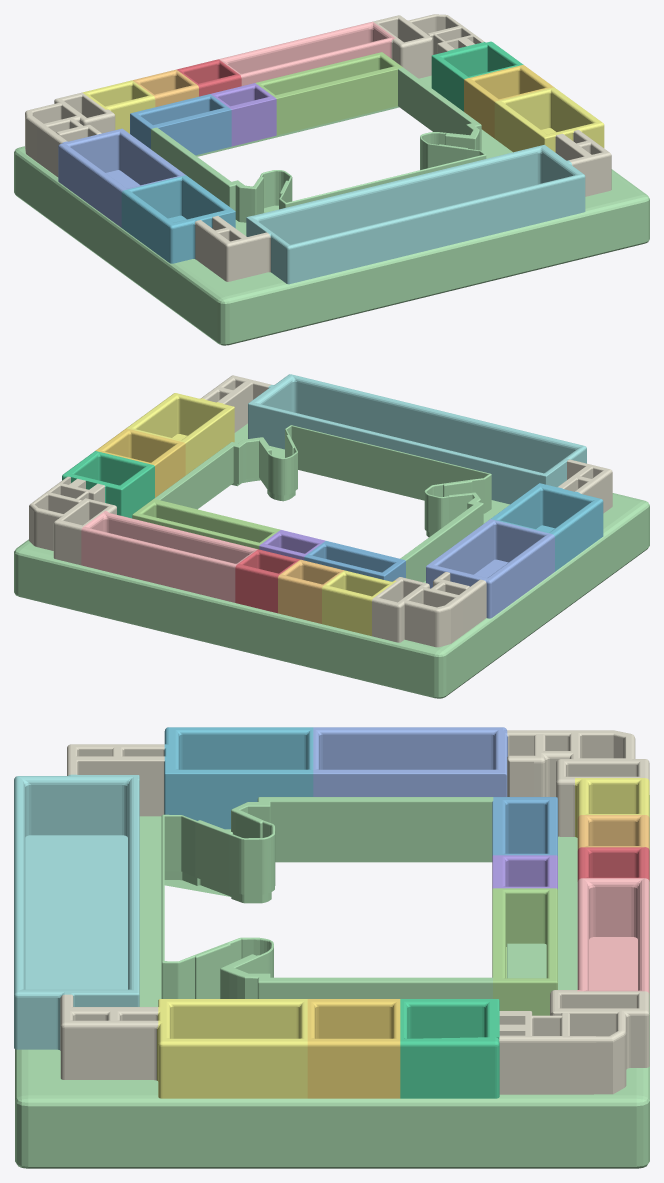
Rendered from index.glb.
3 renders of one model, top to bottom at view 1: azimuth 30°, elevation 25°; view 2: azimuth 150°, elevation 25°; view 3: azimuth 270°, elevation 25°, orthographic. The views are drawn at different scales.
Parts seen in each view (by area): view 1: 首頁; view 2: 首頁; view 3: 首頁.
Part boxes in pixels (bbox=[...]): 首頁: bbox=[14, 14, 649, 345]; 首頁: bbox=[14, 374, 649, 698]; 首頁: bbox=[14, 727, 649, 1168].
Bounding box in the file's own units: 7.26 × 1.38 × 6.16.
